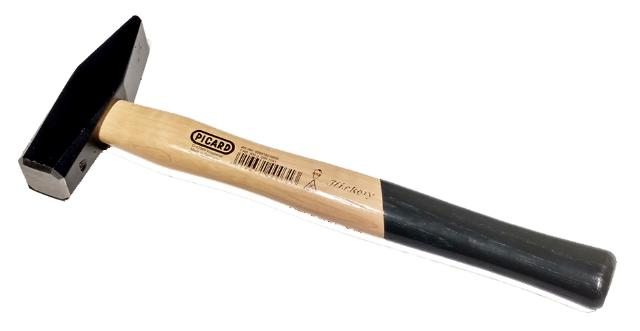hammer: (15, 11, 621, 316)
